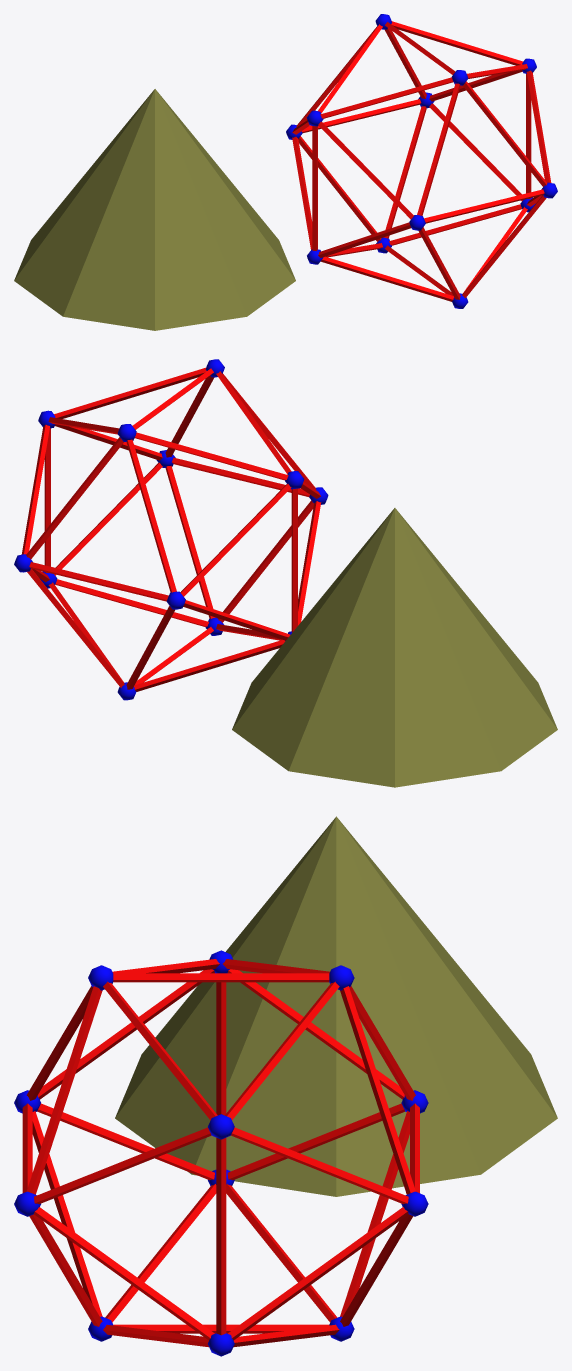
The model's file is shapes.obj.
3 views of the same model, one above another, from view 1: azimuth 30°, elevation 25°; view 2: azimuth 150°, elevation 25°; view 3: azimuth 270°, elevation 25° (orthographic). The views are drawn at different scales.
Visible parts, largest first — view 1: Cone001, Hedra001; view 2: Cone001, Hedra001; view 3: Cone001, Hedra001.
Part boxes in pixels (bbox=[...]): Cone001: bbox=[14, 89, 295, 330]; Hedra001: bbox=[286, 14, 557, 308]; Cone001: bbox=[232, 508, 557, 787]; Hedra001: bbox=[14, 359, 328, 700]; Cone001: bbox=[115, 816, 557, 1196]; Hedra001: bbox=[14, 950, 428, 1356].
Size of the model in its own units: 337 by 167 by 220.
